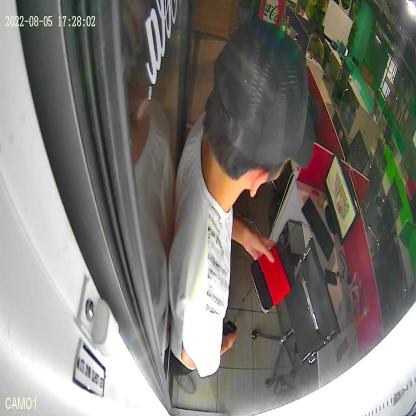red: (250, 237, 295, 315)
